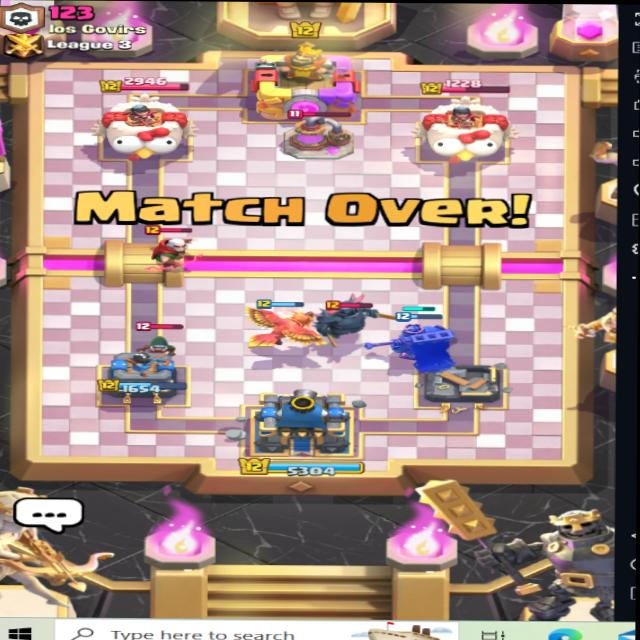bandit: (122, 319, 194, 363)
elixir-collector: (273, 106, 369, 168)
magic-archer: (128, 224, 226, 281)
pekka: (316, 293, 390, 343)
